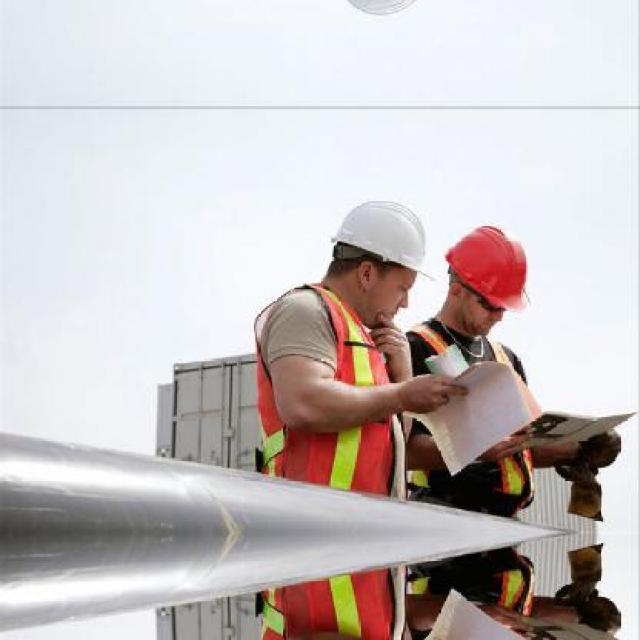Reflective-Jacket: (240, 282, 411, 506), (403, 320, 545, 512)
Safety-Helmet: (317, 192, 435, 288), (436, 222, 546, 320)
